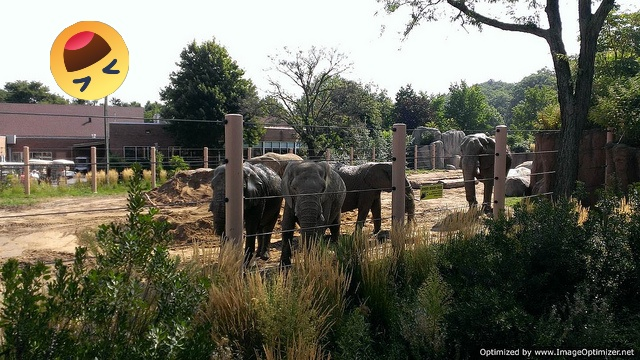haha: (50, 21, 129, 100)
